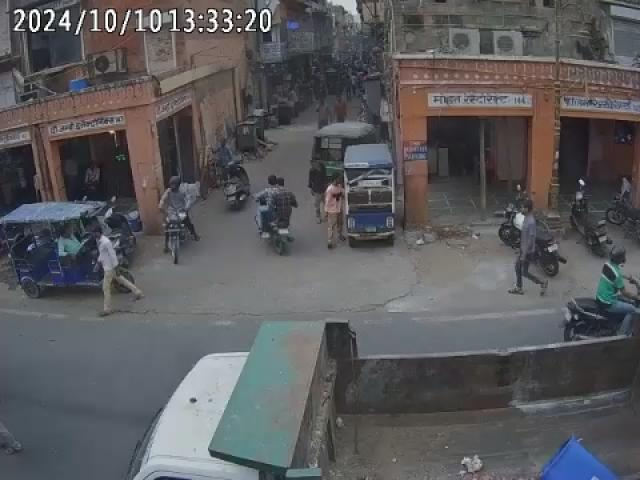auto: (0, 196, 106, 297)
helmet: (607, 246, 629, 268), (170, 176, 183, 192)
motorbike: (564, 243, 640, 340)
motorbike-rider: (254, 174, 299, 256), (157, 176, 196, 262), (606, 191, 634, 226)
no_helmet: (274, 176, 287, 188), (267, 173, 278, 187)
person: (92, 228, 140, 316), (513, 197, 542, 296), (322, 176, 347, 250)
scooty: (571, 179, 614, 257)
scooty-rider: (223, 159, 254, 209)
